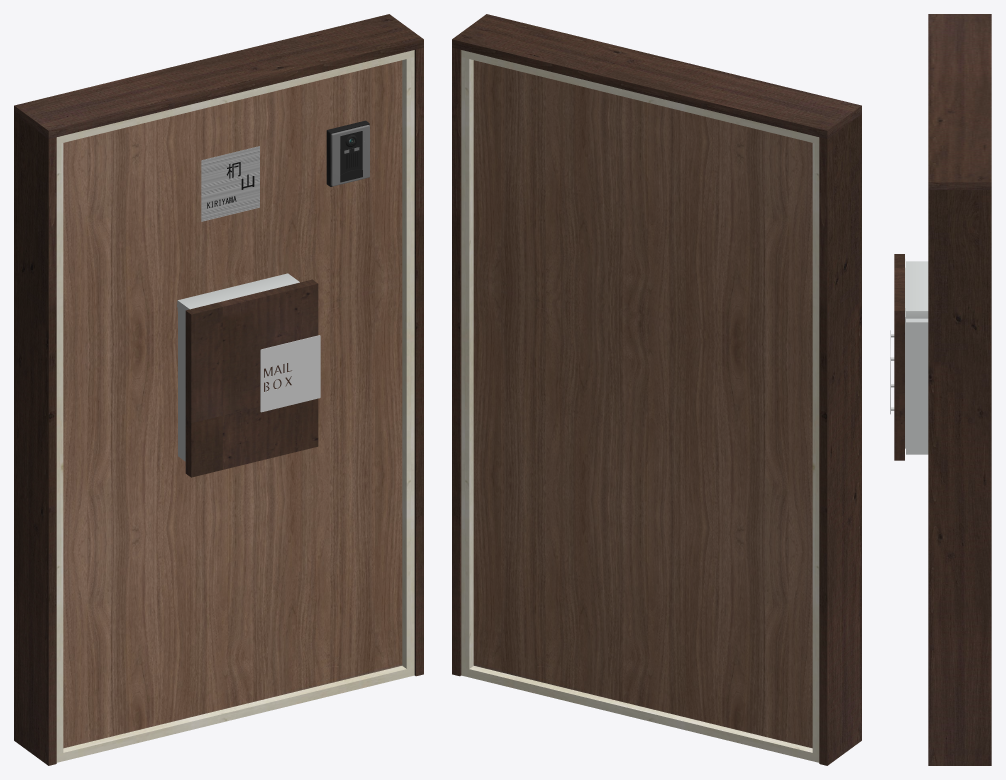
File: ab3-m_americanwalnut.fbx
3 views of the same model, side by side, from view 1: azimuth 30°, elevation 25°; view 2: azimuth 150°, elevation 25°; view 3: azimuth 270°, elevation 25° (orthographic). The views are drawn at different scales.
Visible parts, largest first — view 1: ab3-m_americanwalnut; view 2: ab3-m_americanwalnut; view 3: ab3-m_americanwalnut.
Boxes of the visible parts, box(x1,y1,x2,y2) form: ab3-m_americanwalnut: box(14, 14, 423, 765); ab3-m_americanwalnut: box(452, 14, 861, 765); ab3-m_americanwalnut: box(890, 14, 991, 765).
Bounding box in the file's own units: 94 × 152 × 23.97.
Materials: 11 (8 with a texture image).
